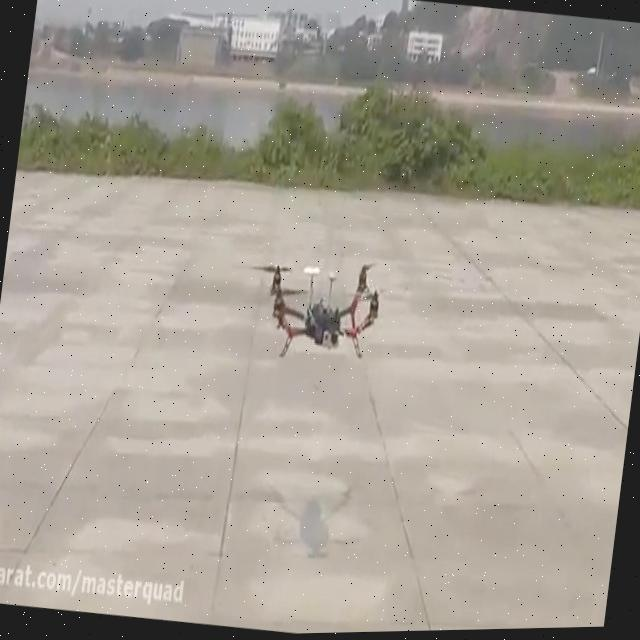drone: (238, 240, 394, 374)
